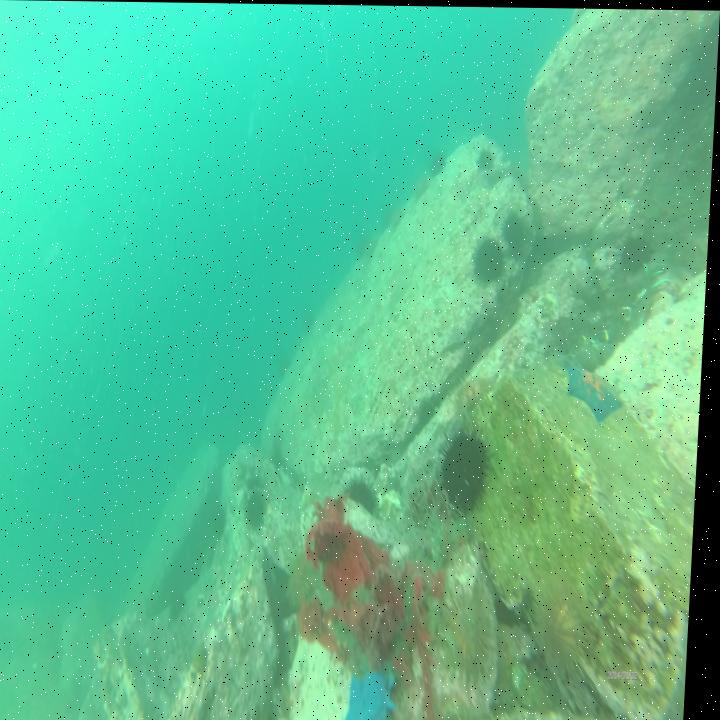echinus: (444, 575, 506, 686), (440, 425, 499, 517), (471, 231, 512, 290), (346, 470, 386, 525), (500, 204, 538, 259), (623, 230, 656, 276), (247, 484, 277, 529), (173, 583, 198, 624), (300, 298, 325, 337), (352, 224, 378, 260), (475, 141, 501, 175), (278, 348, 301, 380), (430, 142, 450, 178), (382, 199, 403, 226)
starfish: (567, 355, 630, 423)
